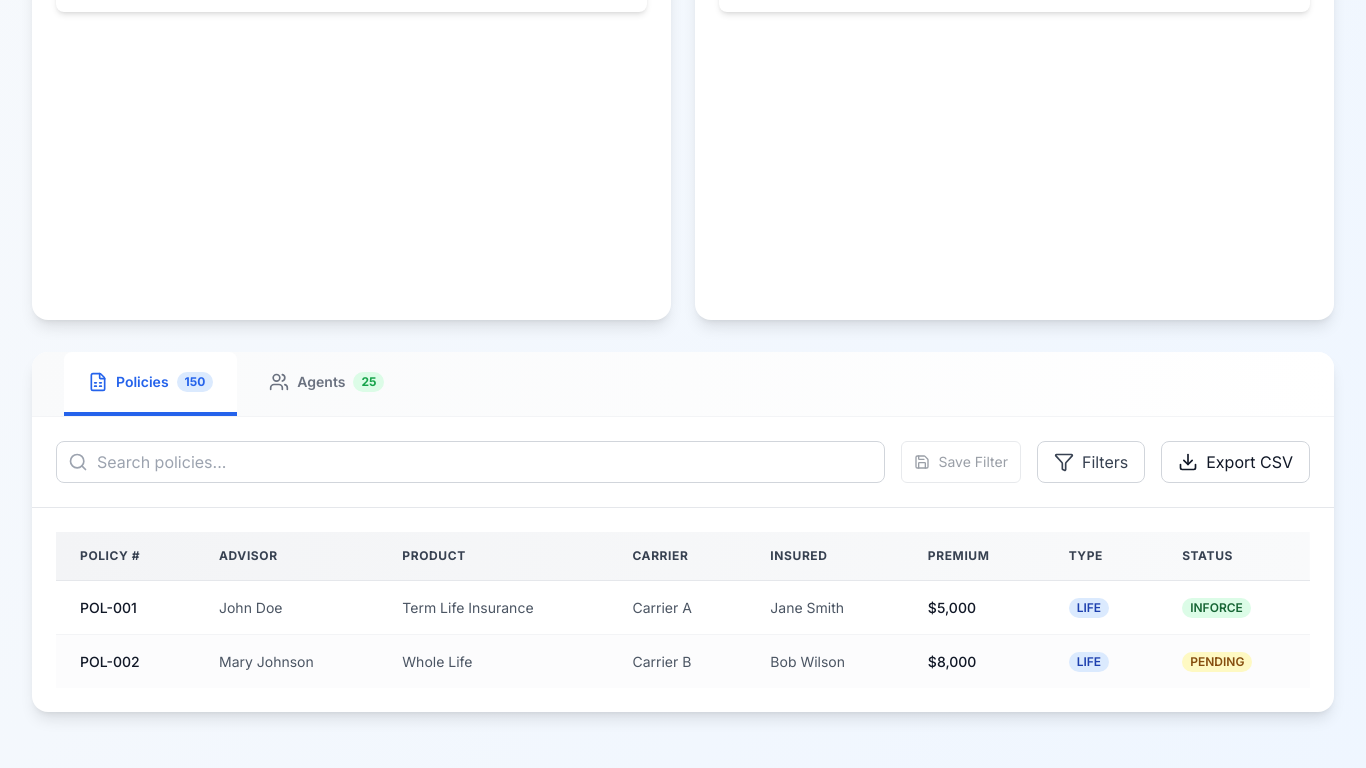
Test case: DashboardContent Component › Agents Tab › should switch to agents tab
(page scrolled)
Click the button "Agents 25": click(327, 384) [245,352,408,416]
(page scrolled)
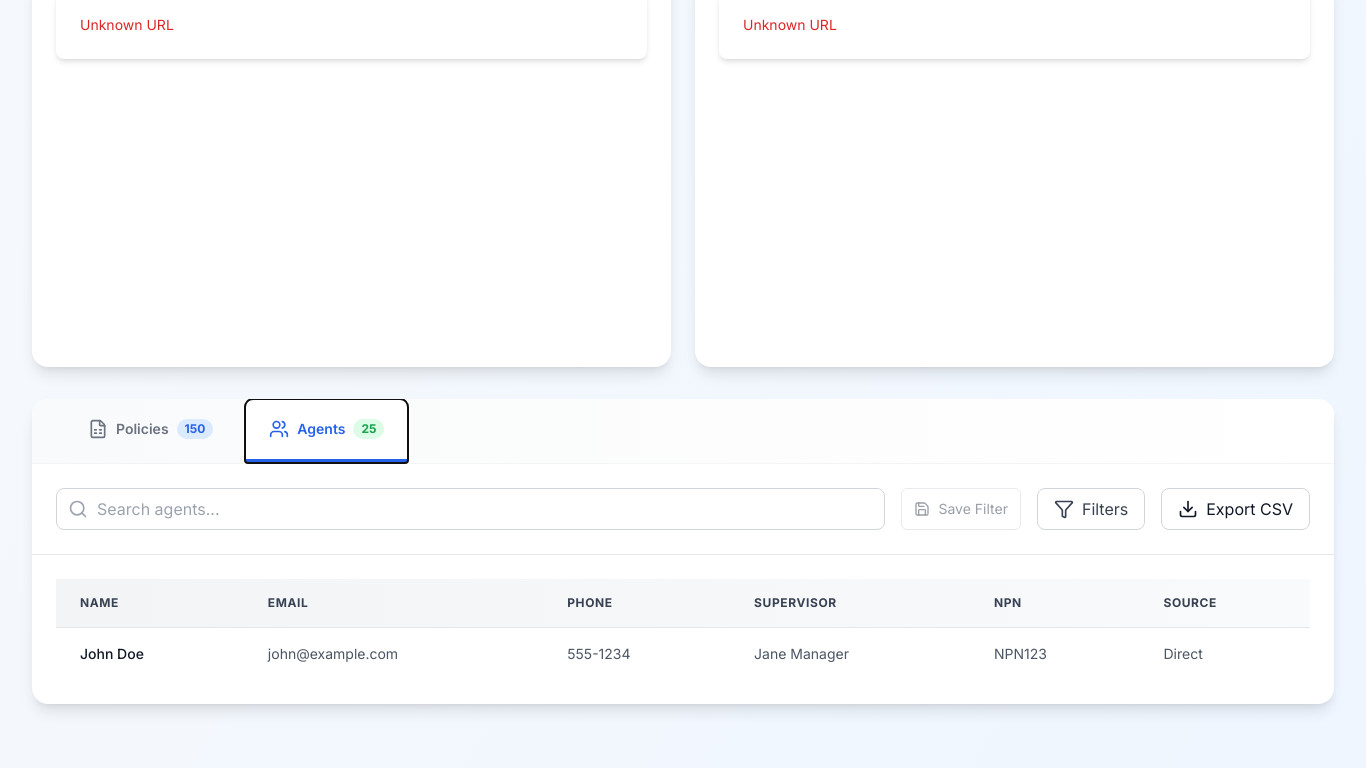
Expected: the column heading "Name" is shown, [56,579,244,628]
Expected: the column heading "Email" is shown, [244,579,543,628]
Expected: the column heading "Phone" is shown, [543,579,730,628]
